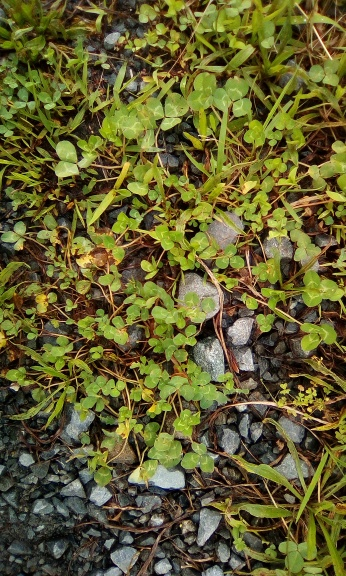4leaf: (173, 409, 201, 437)
